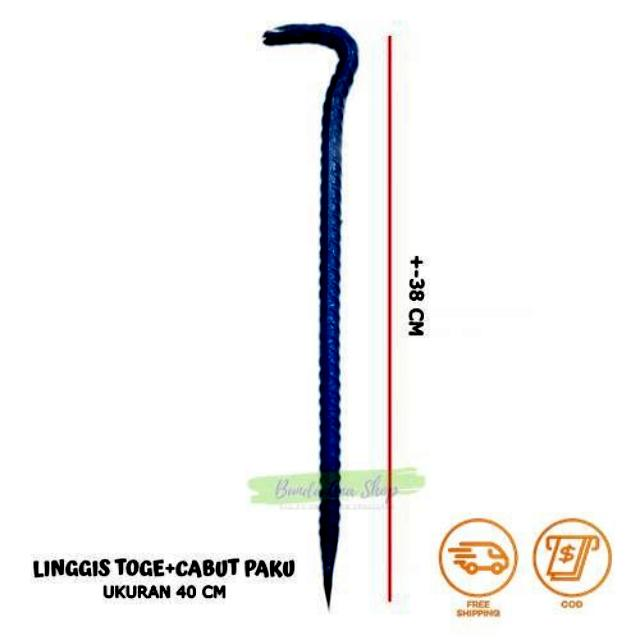crow bar: (255, 14, 370, 612)
